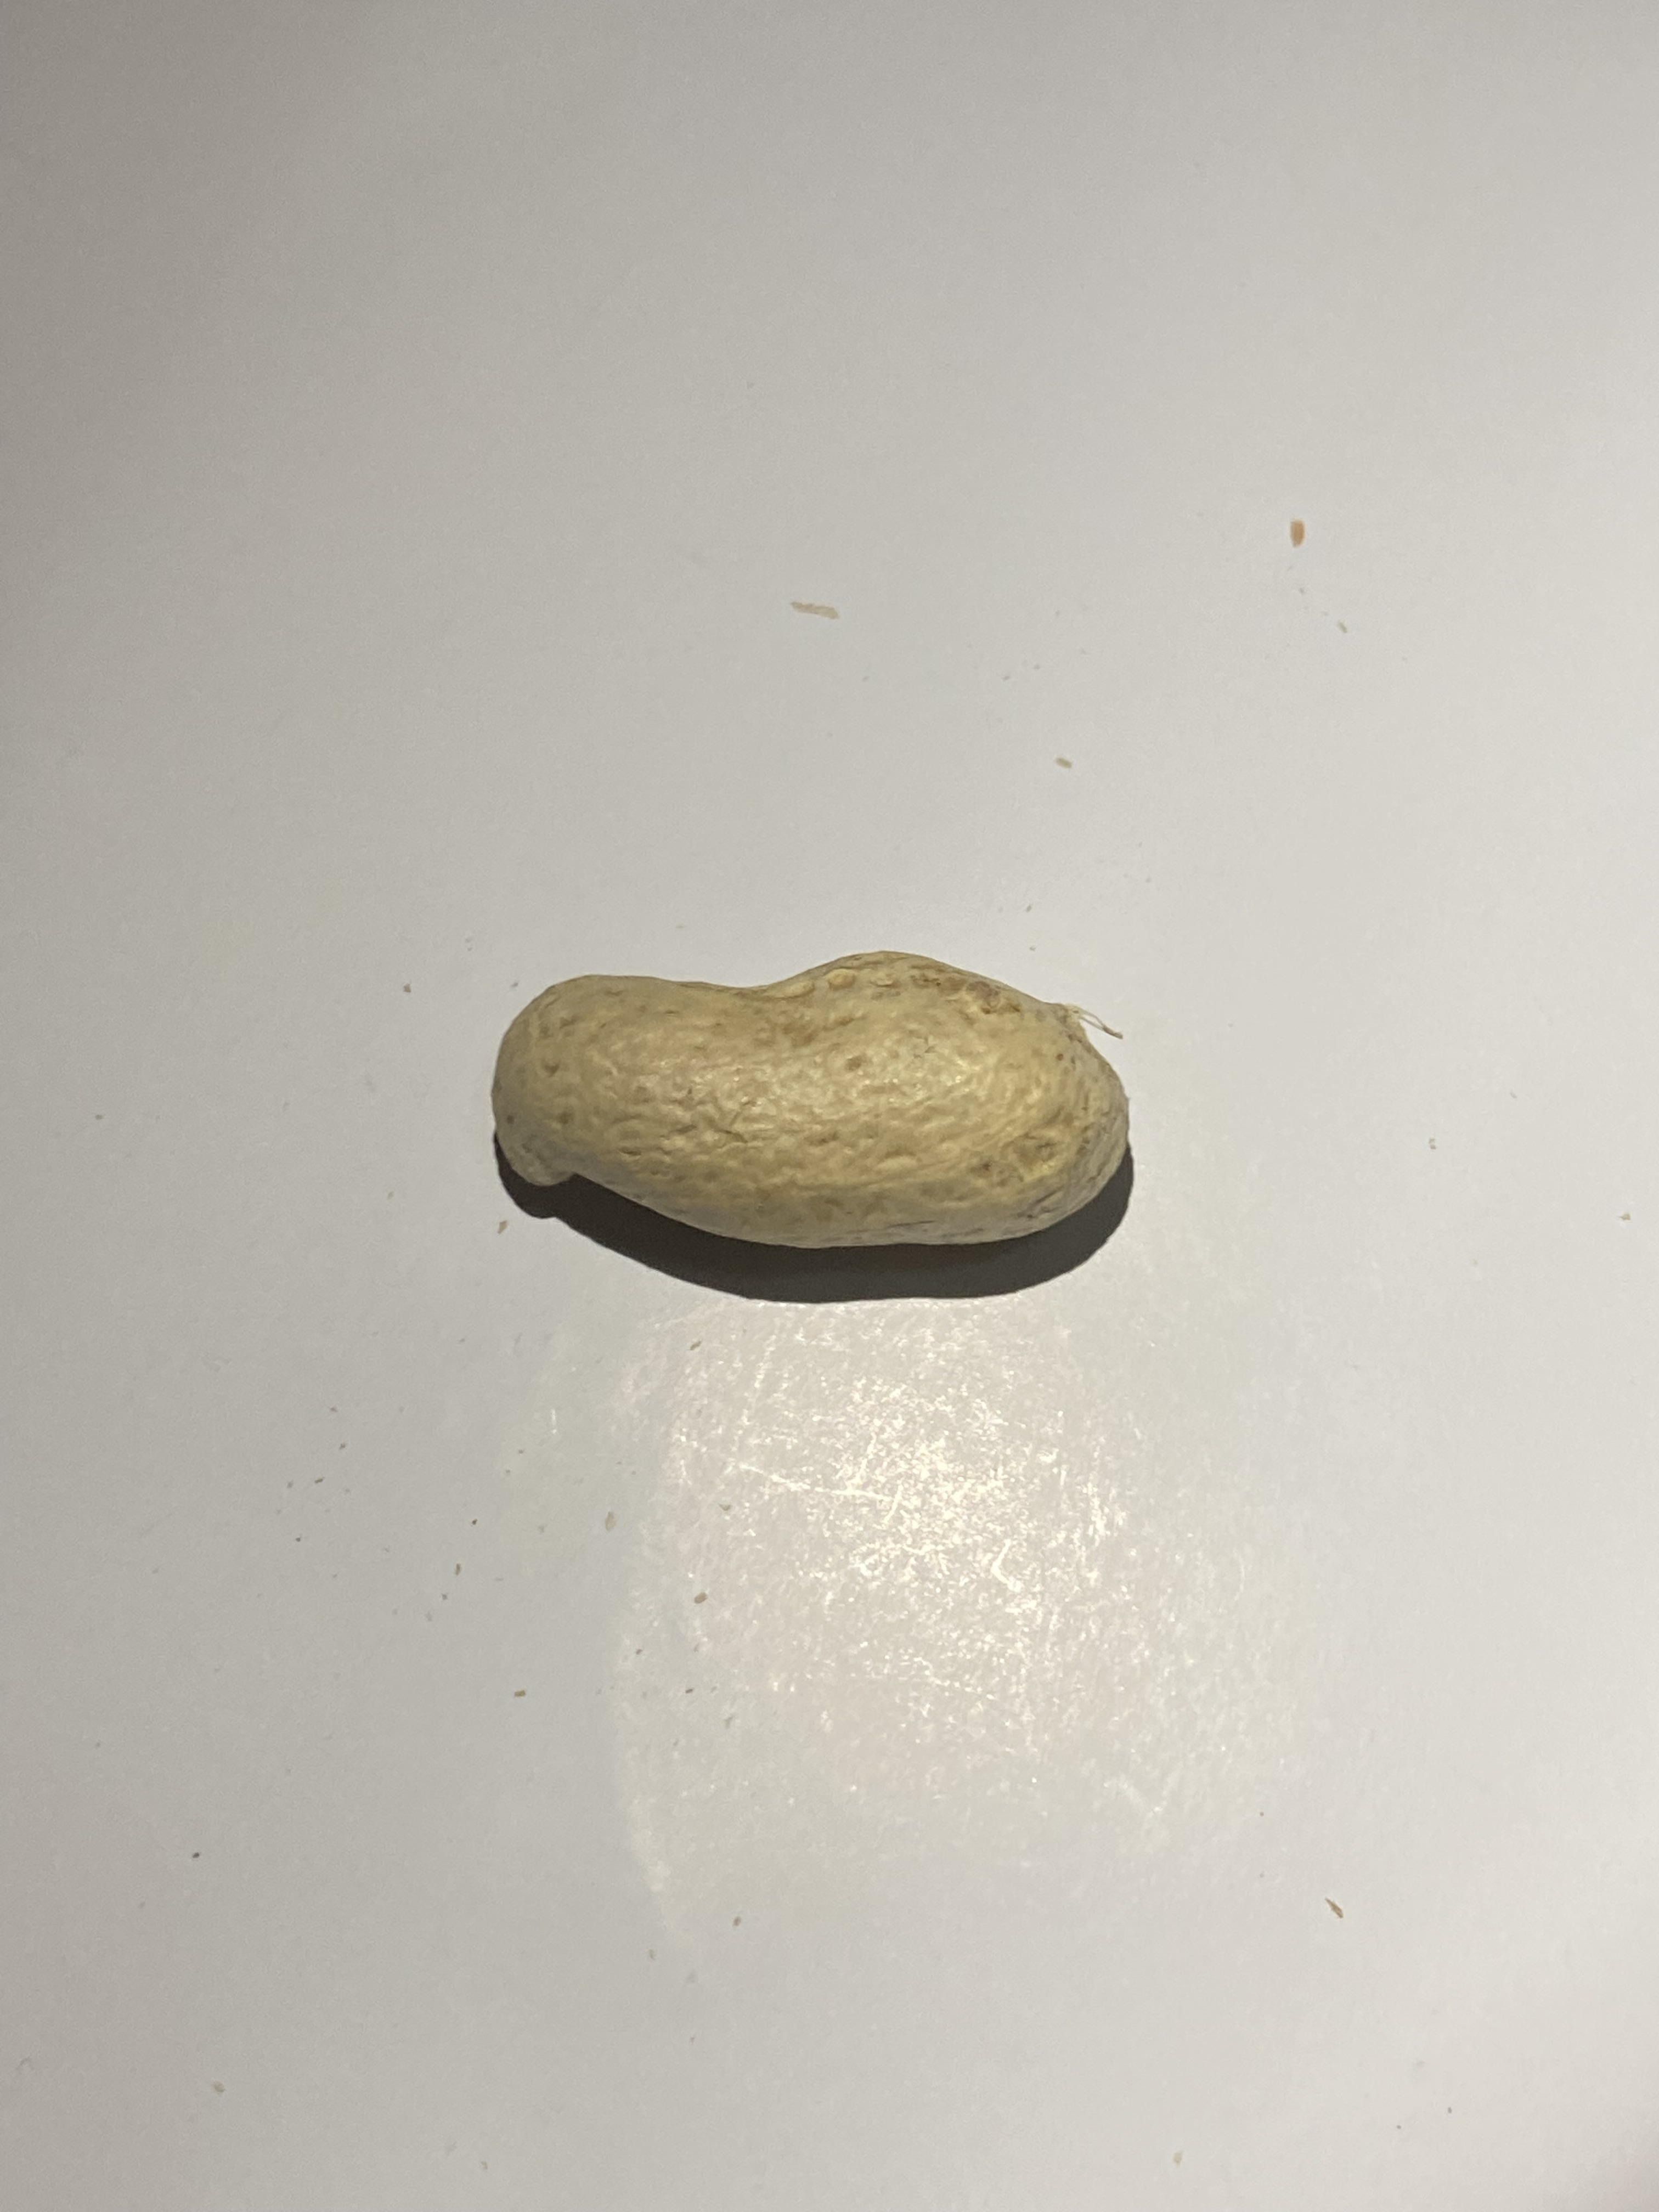kacang2: (464, 932, 1171, 1254)
